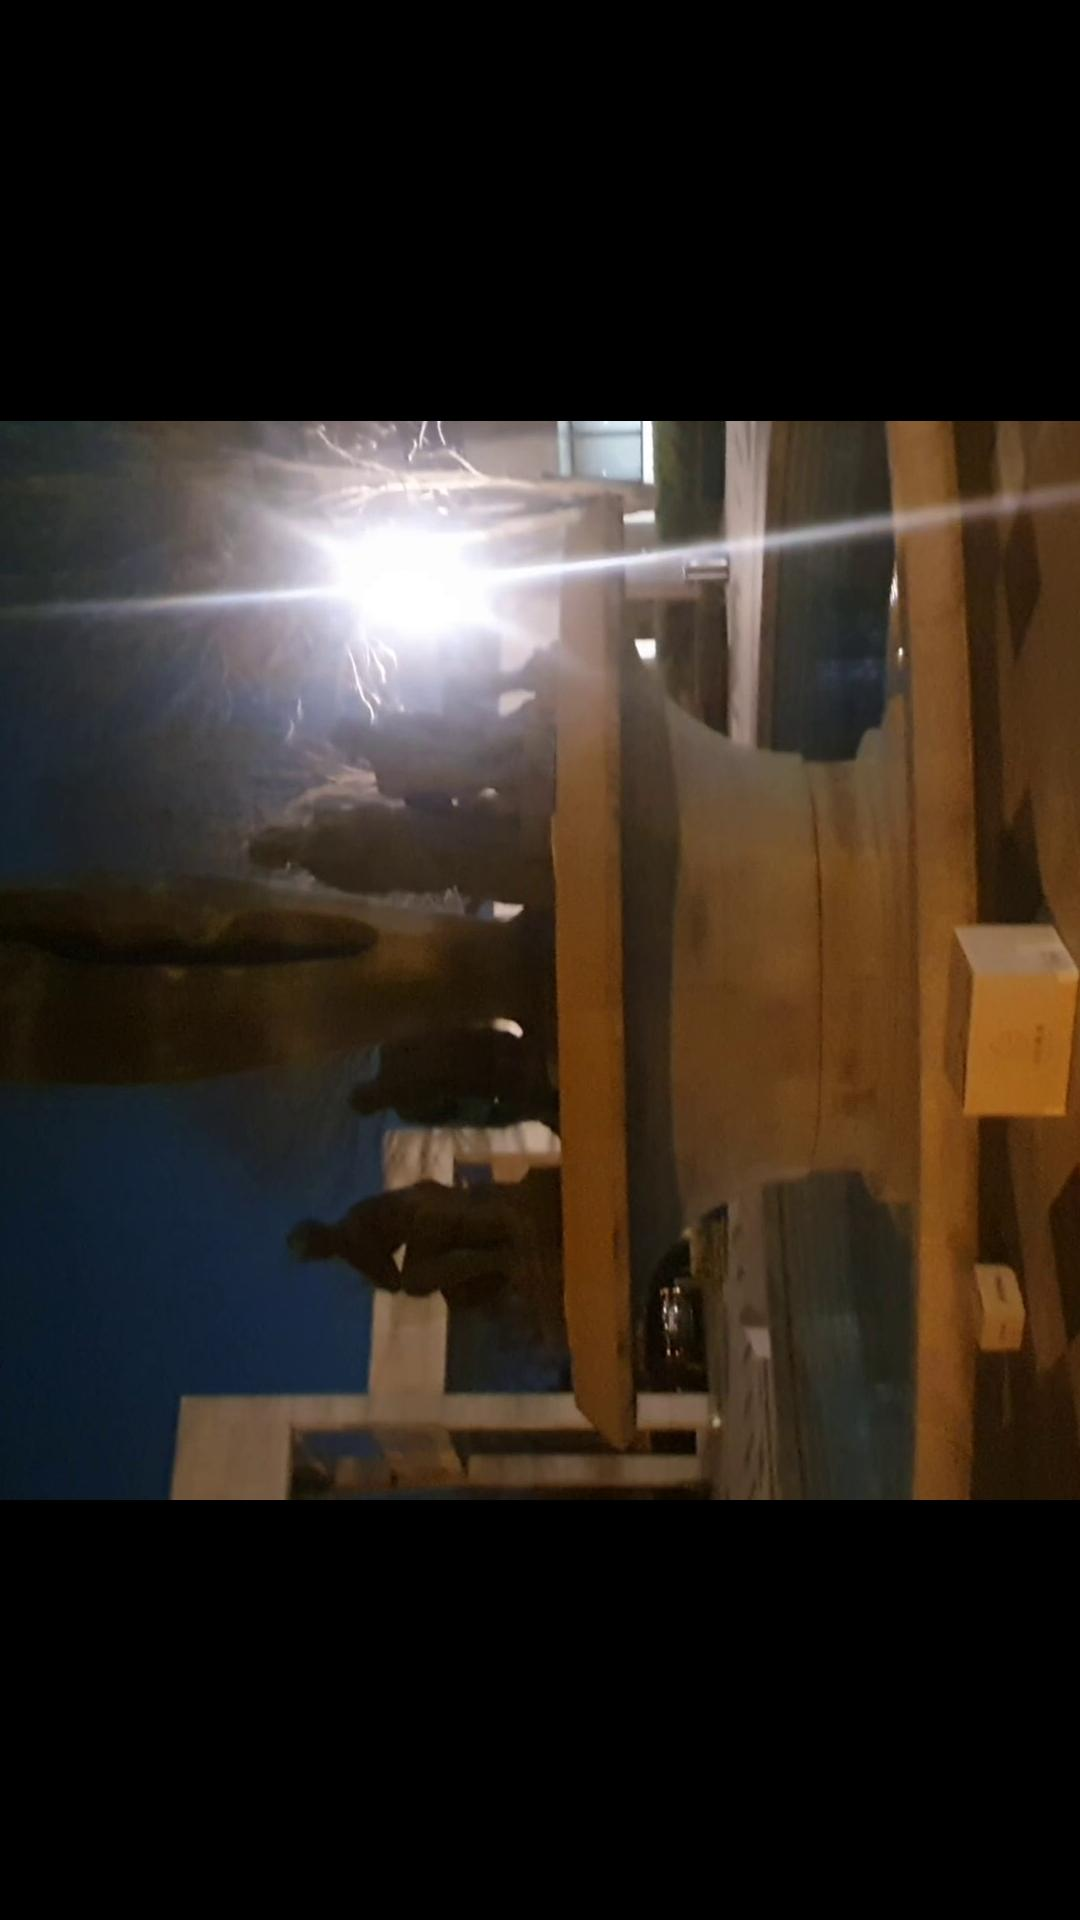Box: (920, 920, 1080, 1120), (957, 1255, 1030, 1371)
